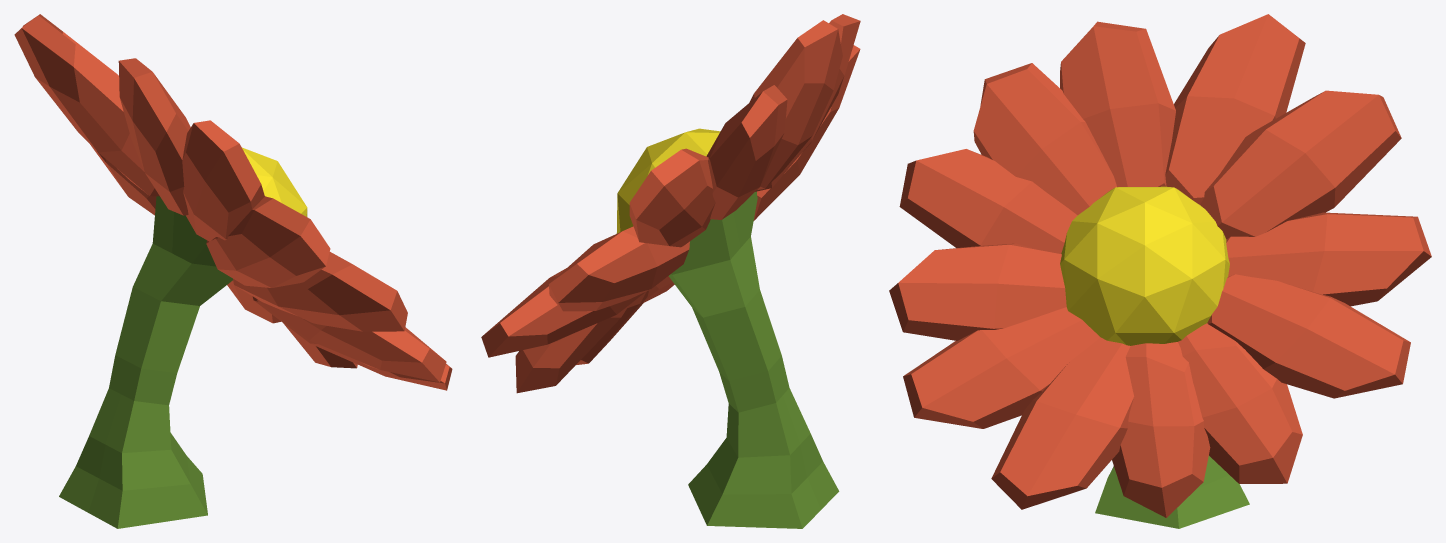
The model's file is flower1.fbx.
3 views of the same model, side by side, from view 1: azimuth 30°, elevation 25°; view 2: azimuth 150°, elevation 25°; view 3: azimuth 270°, elevation 25° (orthographic).
Visible parts, largest first — view 1: Cylinder; view 2: Cylinder; view 3: Cylinder.
Boxes of the visible parts, box(x1,y1,x2,y2) form: Cylinder: box(14, 14, 452, 528); Cylinder: box(481, 14, 860, 528); Cylinder: box(889, 14, 1431, 528).
Size of the model in its own units: 480 by 677 by 725.
